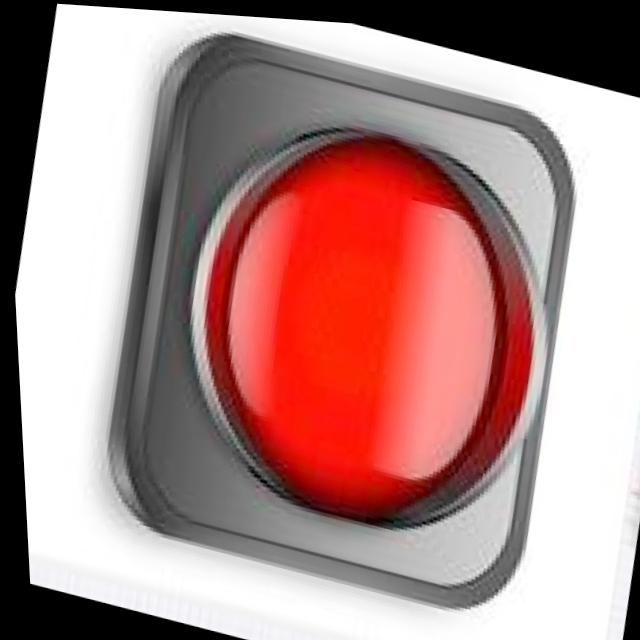red_light: (118, 50, 565, 554)
